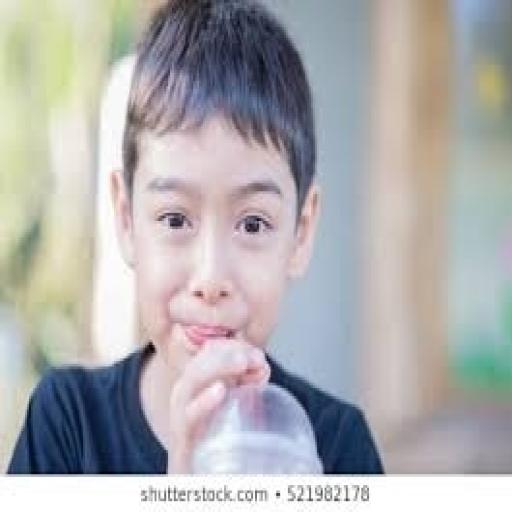drinking: (3, 0, 386, 474)
